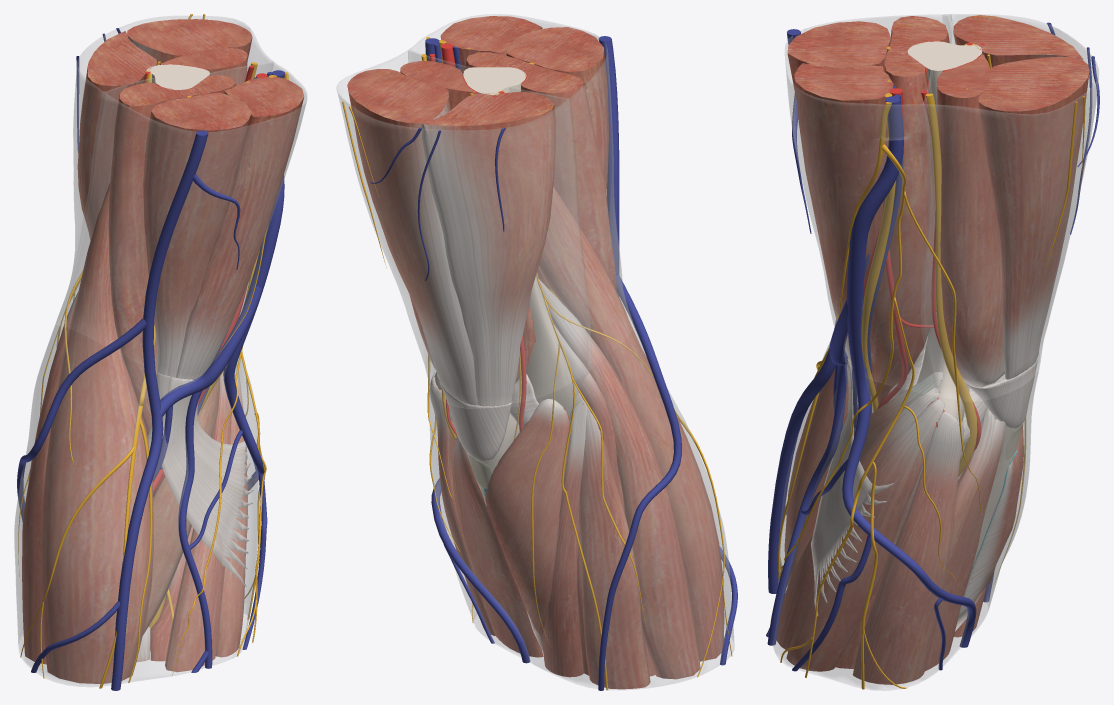
File: open3dmodel-zone-elbow.glb
3 renders of one model, left to right at view 1: azimuth 30°, elevation 25°; view 2: azimuth 150°, elevation 25°; view 3: azimuth 270°, elevation 25°, orthographic. The views are drawn at different scales.
Parts seen in each view (by area): view 1: Antebrachial fascia.r, Brachial fascia.r, Brachioradialis muscle.r, Long head of biceps brachii.r, Short head of biceps brachii.r, Brachialis muscle.r, Bicipital aponeurosis.r, Lateral head of triceps brachii.r, Cephalic vein.r, Superficial veins of upper limb.r, Flexor carpi radialis.r, Extensor carpi radialis longus.r (+15 smaller); view 2: Antebrachial fascia.r, Brachial fascia.r, Lateral head of triceps brachii.r, Long head of triceps brachii.r, Brachioradialis muscle.r, Extensor carpi radialis longus.r, Anconeus muscle.r, Extensor digitorum.r, Brachialis muscle.r, Lateral intermuscular septum of arm.r, Humeral head of extensor carpi ulnaris.r, Ulnar head of flexor carpi ulnaris.r (+15 smaller); view 3: Brachial fascia.r, Antebrachial fascia.r, Long head of triceps brachii.r, Medial head of triceps brachii.r, Short head of biceps brachii.r, Humeral head of flexor carpi ulnaris.r, Brachialis muscle.r, Palmaris longus muscle.r, Bascilic vein.r, Medial antebrachial cutaneous nerve.r, Ulnar head of flexor carpi ulnaris.r, Bicipital aponeurosis.r (+23 smaller).
Boxes of the visible parts, x1,y1,x2,y2 form: Antebrachial fascia.r: [14, 324, 258, 686]; Brachial fascia.r: [55, 16, 307, 381]; Brachioradialis muscle.r: [41, 183, 153, 683]; Long head of biceps brachii.r: [143, 92, 251, 377]; Short head of biceps brachii.r: [176, 76, 304, 379]; Brachialis muscle.r: [108, 74, 236, 435]; Bicipital aponeurosis.r: [162, 377, 253, 586]; Lateral head of triceps brachii.r: [77, 31, 156, 239]; Cephalic vein.r: [111, 130, 208, 690]; Superficial veins of upper limb.r: [17, 28, 267, 672]; Flexor carpi radialis.r: [165, 371, 231, 672]; Extensor carpi radialis longus.r: [22, 293, 77, 664]; Antebrachial fascia.r: [427, 324, 734, 690]; Brachial fascia.r: [336, 14, 634, 408]; Lateral head of triceps brachii.r: [421, 91, 555, 406]; Long head of triceps brachii.r: [347, 69, 477, 405]; Brachioradialis muscle.r: [538, 187, 724, 661]; Extensor carpi radialis longus.r: [539, 279, 700, 679]; Anconeus muscle.r: [484, 399, 569, 650]; Extensor digitorum.r: [579, 406, 650, 689]; Brachialis muscle.r: [464, 52, 616, 325]; Lateral intermuscular septum of arm.r: [509, 87, 591, 395]; Humeral head of extensor carpi ulnaris.r: [542, 400, 587, 677]; Ulnar head of flexor carpi ulnaris.r: [452, 435, 543, 657]; Brachial fascia.r: [785, 14, 1098, 401]; Antebrachial fascia.r: [773, 341, 1040, 690]; Long head of triceps brachii.r: [978, 56, 1089, 379]; Medial head of triceps brachii.r: [937, 54, 1004, 387]; Short head of biceps brachii.r: [794, 63, 893, 360]; Humeral head of flexor carpi ulnaris.r: [853, 411, 964, 684]; Brachialis muscle.r: [870, 16, 949, 404]; Palmaris longus muscle.r: [786, 399, 944, 671]; Bascilic vein.r: [842, 96, 976, 647]; Medial antebrachial cutaneous nerve.r: [770, 102, 981, 689]; Ulnar head of flexor carpi ulnaris.r: [925, 409, 1005, 670]; Bicipital aponeurosis.r: [811, 359, 893, 616].
Bounding box in the file's own units: 0.1161 × 0.2044 × 0.1006.
Materials: 17 (6 with a texture image).
